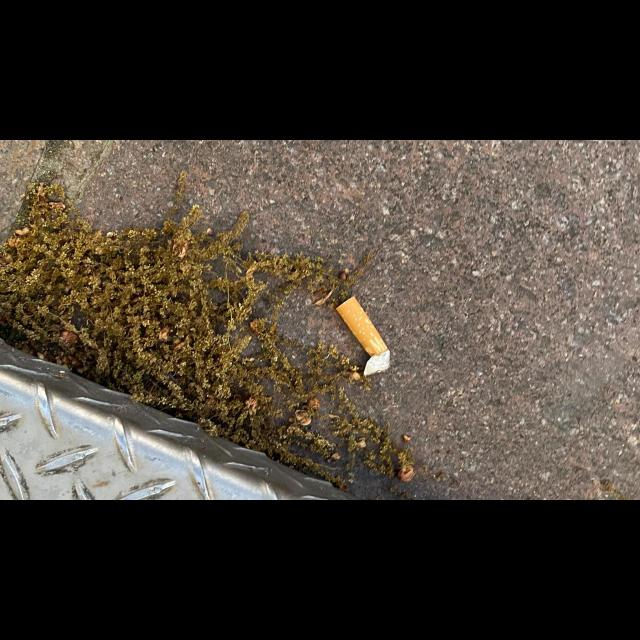cigarette: (335, 295, 391, 378)
